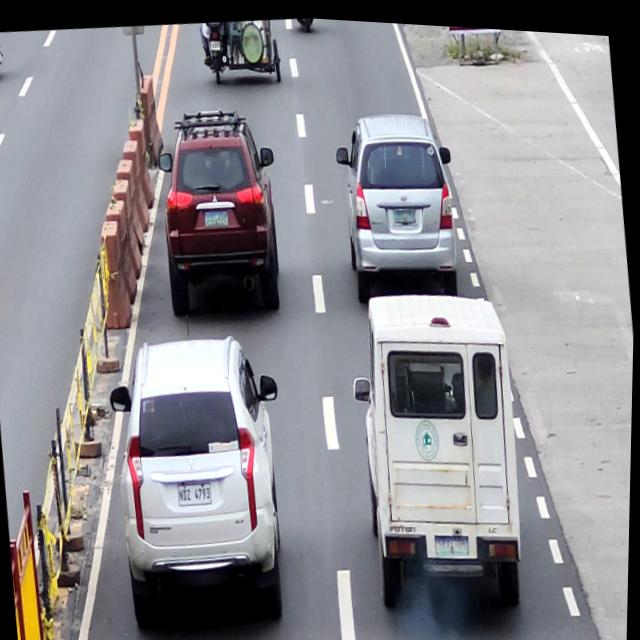Car: (342, 276, 539, 613), (102, 322, 304, 633), (152, 100, 291, 320), (329, 101, 469, 311)
License-Plate: (177, 480, 215, 508), (435, 525, 473, 553), (392, 201, 417, 221), (204, 207, 230, 223), (209, 36, 222, 48)
Tricycle: (200, 12, 285, 91)
